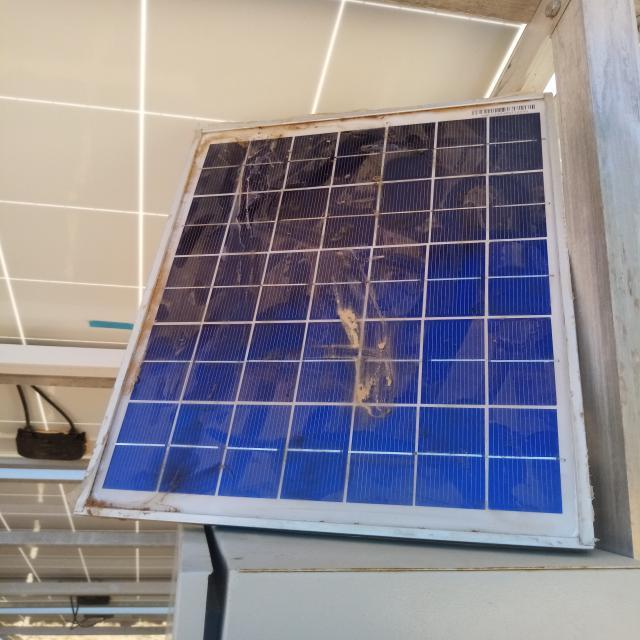faulty: (81, 95, 590, 545)
